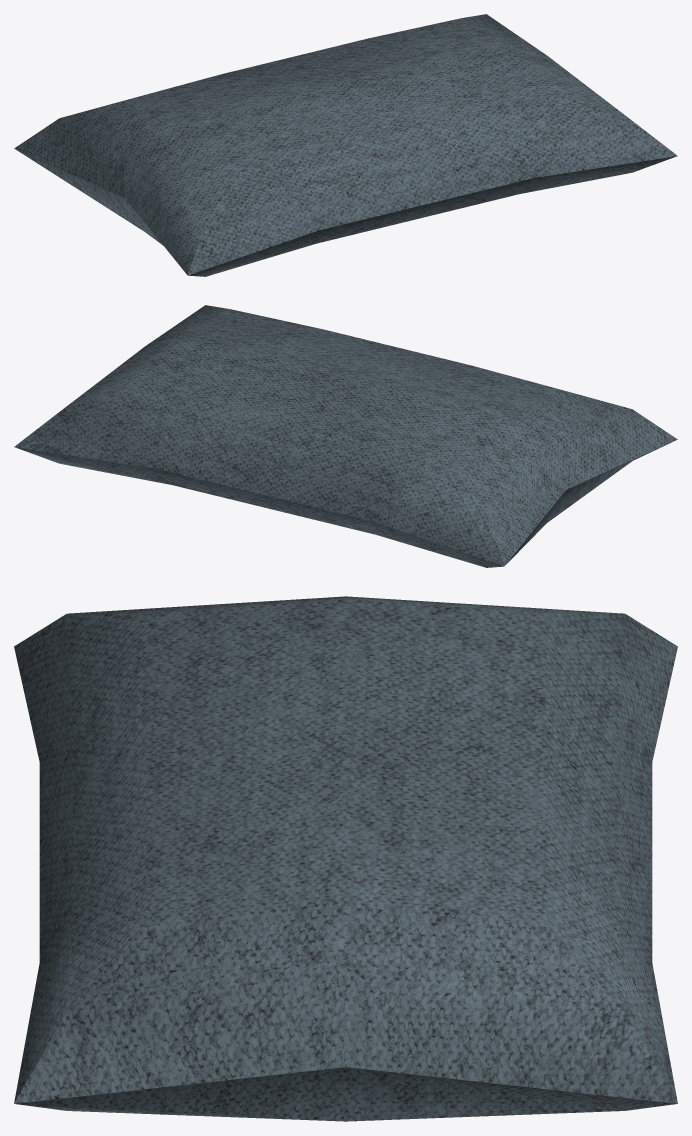
File: bao cat.fbx
3 renders of one model, top to bottom at view 1: azimuth 30°, elevation 25°; view 2: azimuth 150°, elevation 25°; view 3: azimuth 270°, elevation 25°, orthographic. The views are drawn at different scales.
Visible parts, largest first — view 1: Cube.008; view 2: Cube.008; view 3: Cube.008.
Boxes of the visible parts, left/top/right/bottom form: Cube.008: left=14, top=14, right=677, bottom=276; Cube.008: left=14, top=305, right=677, bottom=567; Cube.008: left=14, top=596, right=677, bottom=1121.
Bounding box in the file's own units: 133 × 26.1 × 81.66.
Materials: 1 (1 with a texture image).
